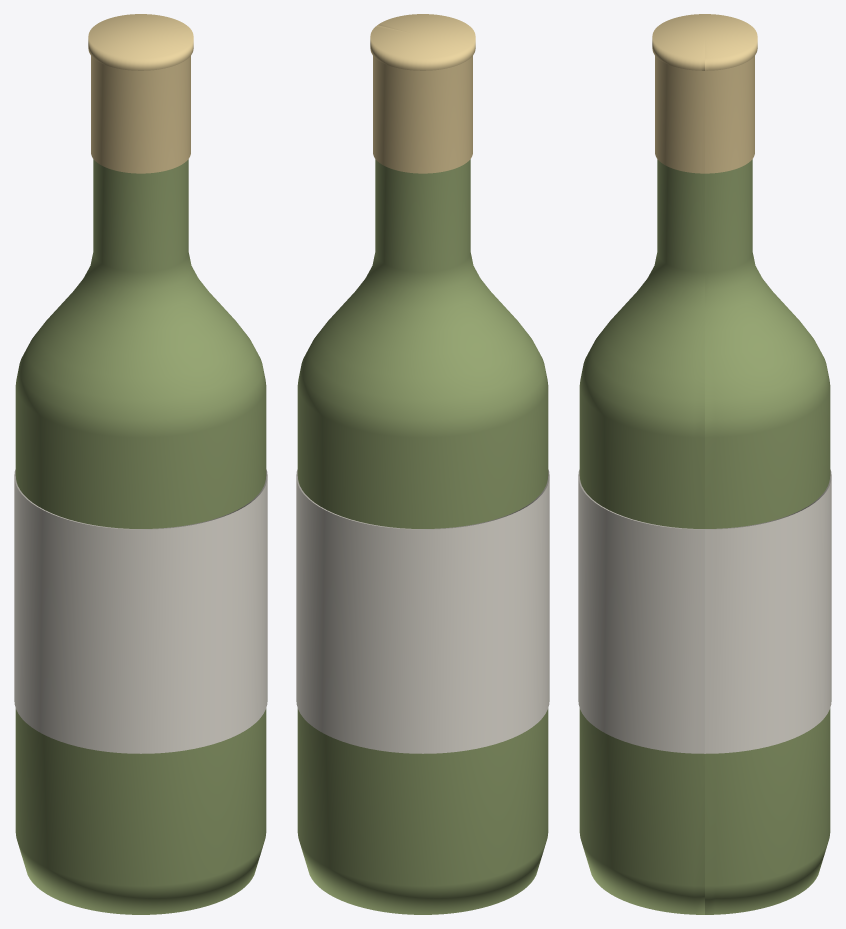
File: chablis.glb
The picture shows the model from 3 angles, left to right: view 1: azimuth 30°, elevation 25°; view 2: azimuth 150°, elevation 25°; view 3: azimuth 270°, elevation 25°; orthographic projection.
Visible parts, largest first — view 1: dish; view 2: dish; view 3: dish.
Boxes of the visible parts, x1,y1,x2,y2 form: dish: [14, 14, 267, 914]; dish: [296, 14, 549, 914]; dish: [578, 14, 831, 914].
Size of the model in its own units: 0.083 by 0.3 by 0.083.
